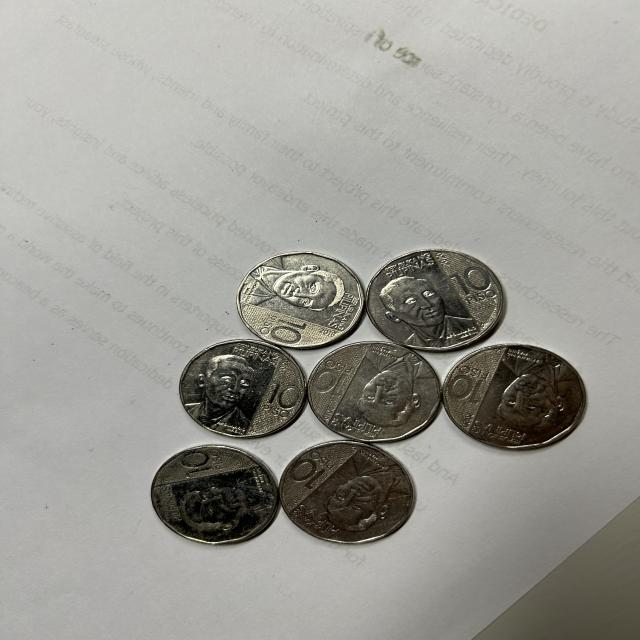10_New_Front: (252, 298, 310, 348), (444, 258, 493, 305), (307, 358, 353, 406), (251, 374, 300, 413), (454, 364, 492, 414), (291, 453, 344, 488), (174, 448, 230, 476)
